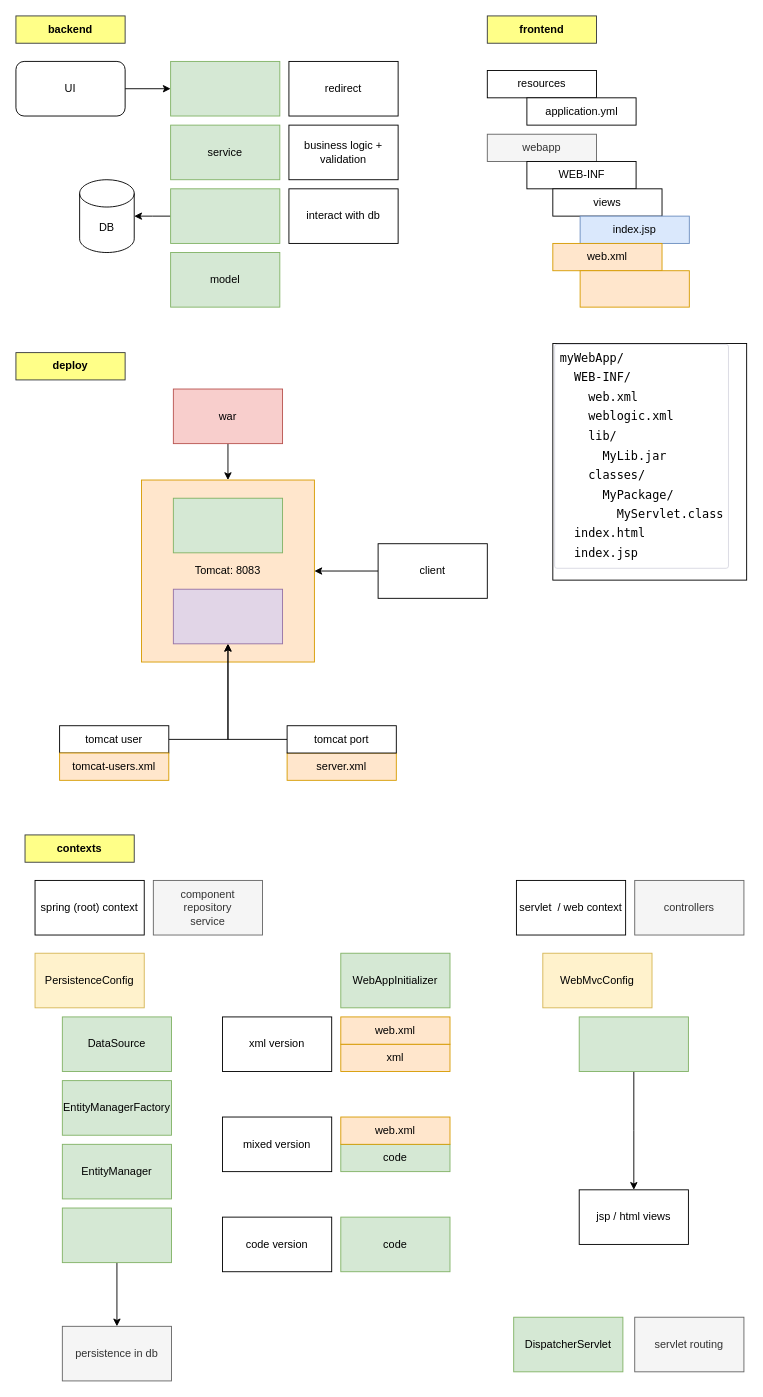
This 763x1397 diagram has some shape labels left out. The centre of each missing label's shape, as x and y in pixels:
controller: the point at 225,88
my web app: 8080: the point at 227,525
repository: the point at 225,215
servlet1 servlet2: the point at 634,288
tomcat web interface: the point at 227,616
TransactionManager: the point at 116,1235
ViewResolver: the point at 633,1044
